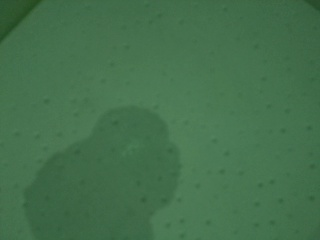Water_detected: (54, 117, 164, 239)
